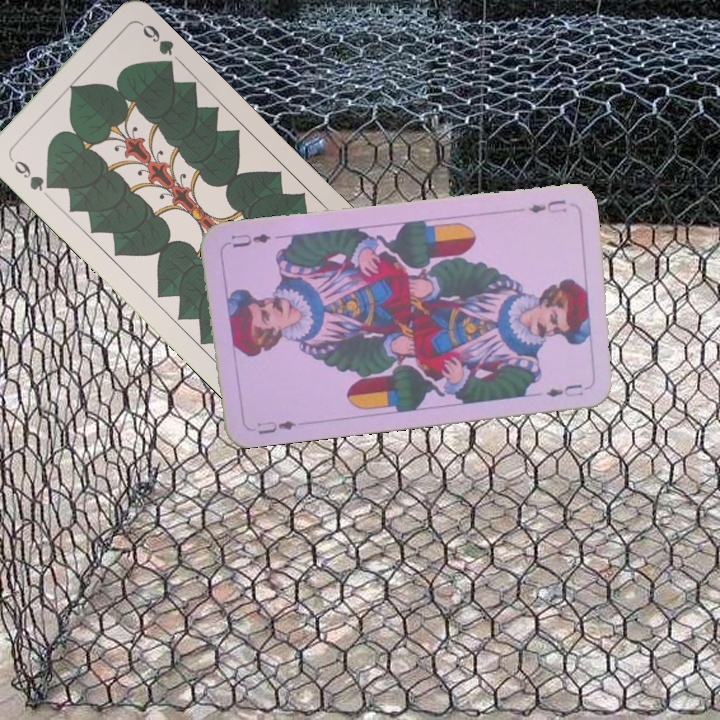EU: (524, 196, 570, 216), (253, 417, 298, 437)
G9: (5, 152, 57, 194)
